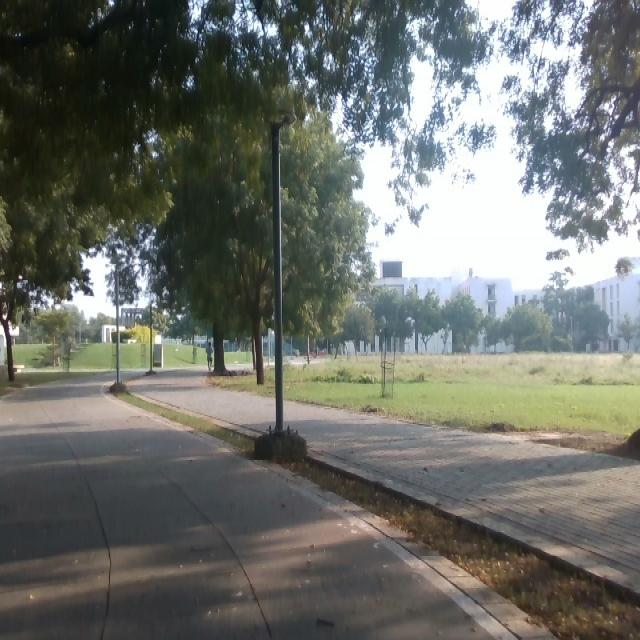lane: (0, 376, 495, 640)
